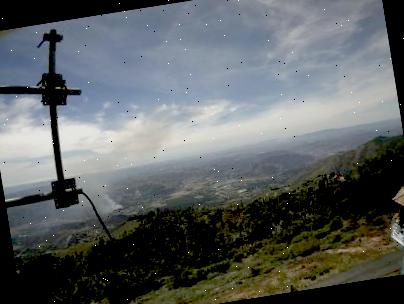smoke: (68, 116, 178, 220)
